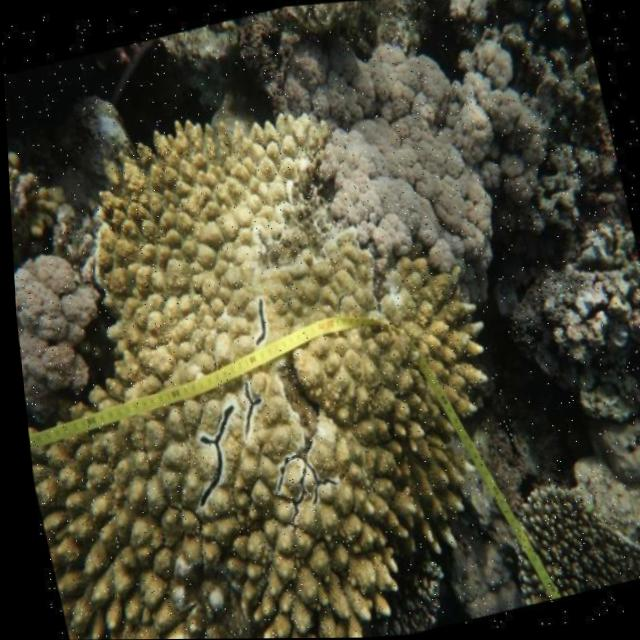Bleached Coral: (10, 239, 577, 640), (56, 101, 369, 332)
